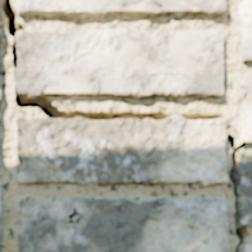brick: (17, 117, 228, 186), (17, 29, 224, 99), (19, 200, 229, 251), (18, 0, 227, 17), (237, 80, 251, 144), (238, 162, 251, 227), (240, 0, 251, 62), (243, 245, 251, 251), (0, 197, 1, 242)
crack: (0, 0, 249, 251)
